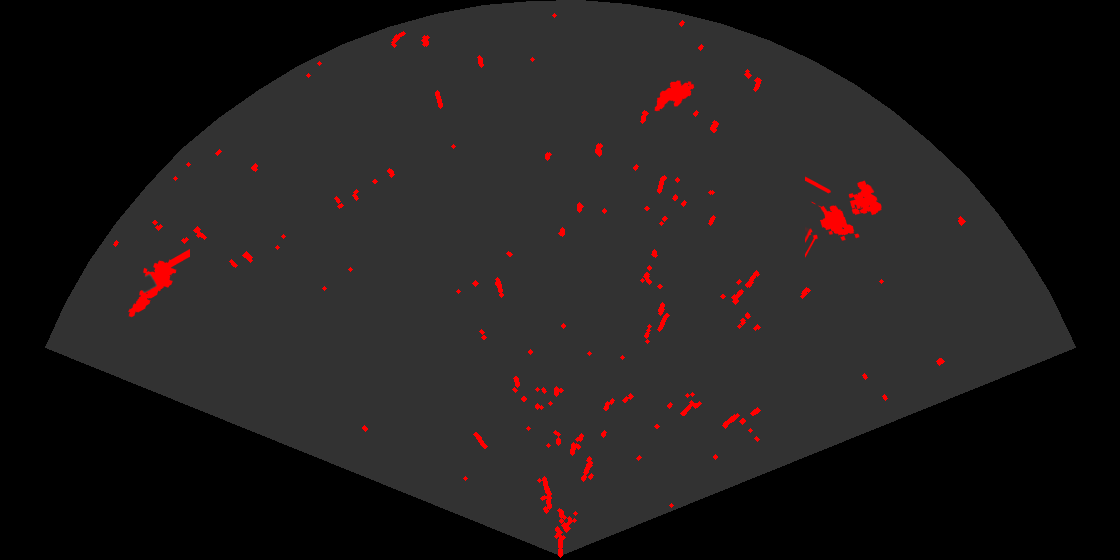AUV: (653, 79, 696, 113)
cage: (805, 175, 883, 259)
frogman: (127, 248, 190, 319)
